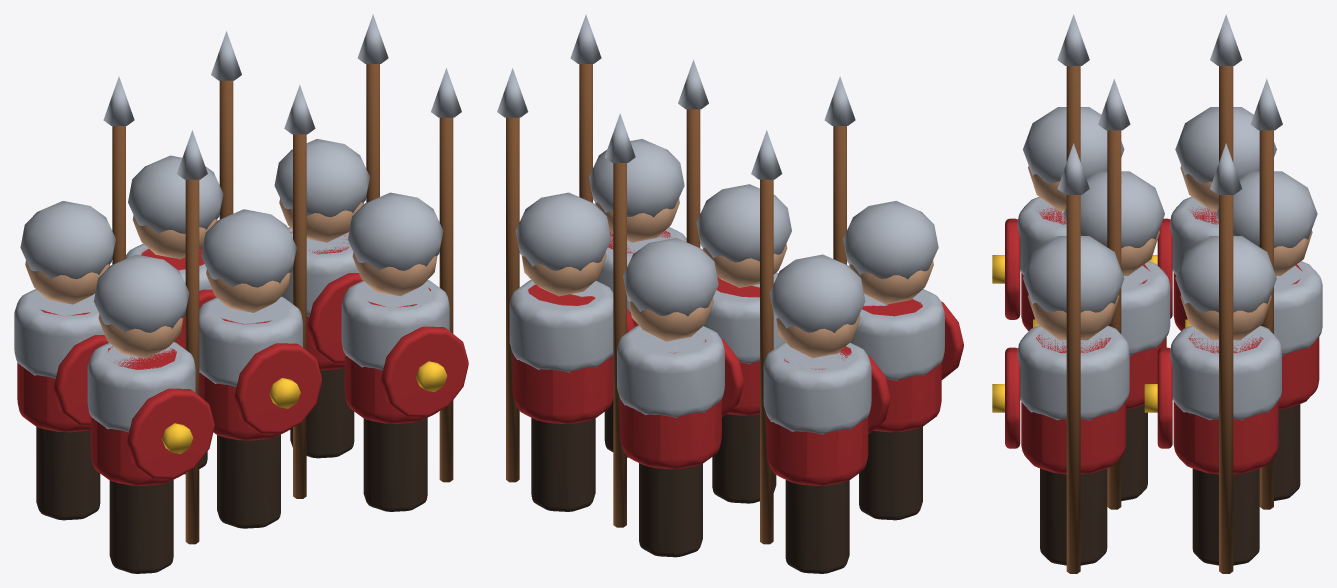
Rendered from squad_red.glb.
The picture shows the model from 3 angles, left to right: view 1: azimuth 30°, elevation 25°; view 2: azimuth 150°, elevation 25°; view 3: azimuth 270°, elevation 25°; orthographic projection. The views are drawn at different scales.
Parts seen in each view (by area): view 1: chest.004, chest.002, helm.001, helm, helm.002, helm.004, chest, legs, legs.004, legs.002, shield.002, shield (+35 smaller); view 2: chest.003, chest.001, chest.005, torso.005, helm, helm.003, helm.001, helm.005, legs.001, legs.005, chest, legs.003 (+31 smaller); view 3: chest.004, chest.005, spear.004, spear.005, torso.004, torso.005, helm.004, helm.005, legs.004, legs.005, helm.002, helm.003 (+32 smaller).
Boxes of the visible parts, box(x1,y1,x2,y2) form: chest.004: box(341, 280, 449, 370); chest.002: box(199, 296, 302, 386); helm.001: box(20, 201, 115, 279); helm: box(93, 254, 189, 332); helm.002: box(201, 209, 296, 287); helm.004: box(348, 192, 443, 270); chest: box(87, 342, 195, 432); legs: box(109, 480, 173, 573); legs.004: box(363, 418, 427, 511); legs.002: box(217, 434, 280, 528); shield.002: box(234, 343, 321, 433); shield: box(127, 388, 214, 478); chest.003: box(617, 325, 724, 417); chest.001: box(763, 342, 871, 434); chest.005: box(509, 280, 613, 372); torso.005: box(512, 284, 613, 423); helm: box(843, 201, 938, 279); helm.003: box(623, 238, 718, 316); helm.001: box(770, 254, 865, 332); helm.005: box(515, 192, 611, 270); legs.001: box(785, 480, 849, 573); legs.005: box(531, 417, 595, 511); chest: box(850, 289, 944, 380); legs.003: box(639, 463, 702, 557); chest.004: box(1017, 325, 1129, 420); chest.005: box(1170, 325, 1281, 420); spear.004: box(1066, 195, 1080, 573); spear.005: box(1219, 195, 1233, 573); torso.004: box(1021, 331, 1125, 474); torso.005: box(1173, 331, 1278, 474); helm.004: box(1023, 236, 1124, 312); helm.005: box(1175, 236, 1276, 312); legs.004: box(1040, 468, 1107, 565); legs.005: box(1192, 468, 1259, 565); helm.002: box(1063, 171, 1164, 248); helm.003: box(1216, 171, 1317, 247).
Size of the model in its own units: 0.429 by 0.475 by 0.3249.
